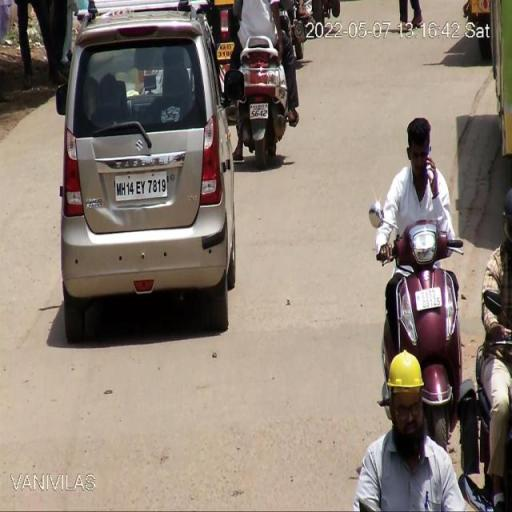using mobile: (425, 136, 435, 178)
